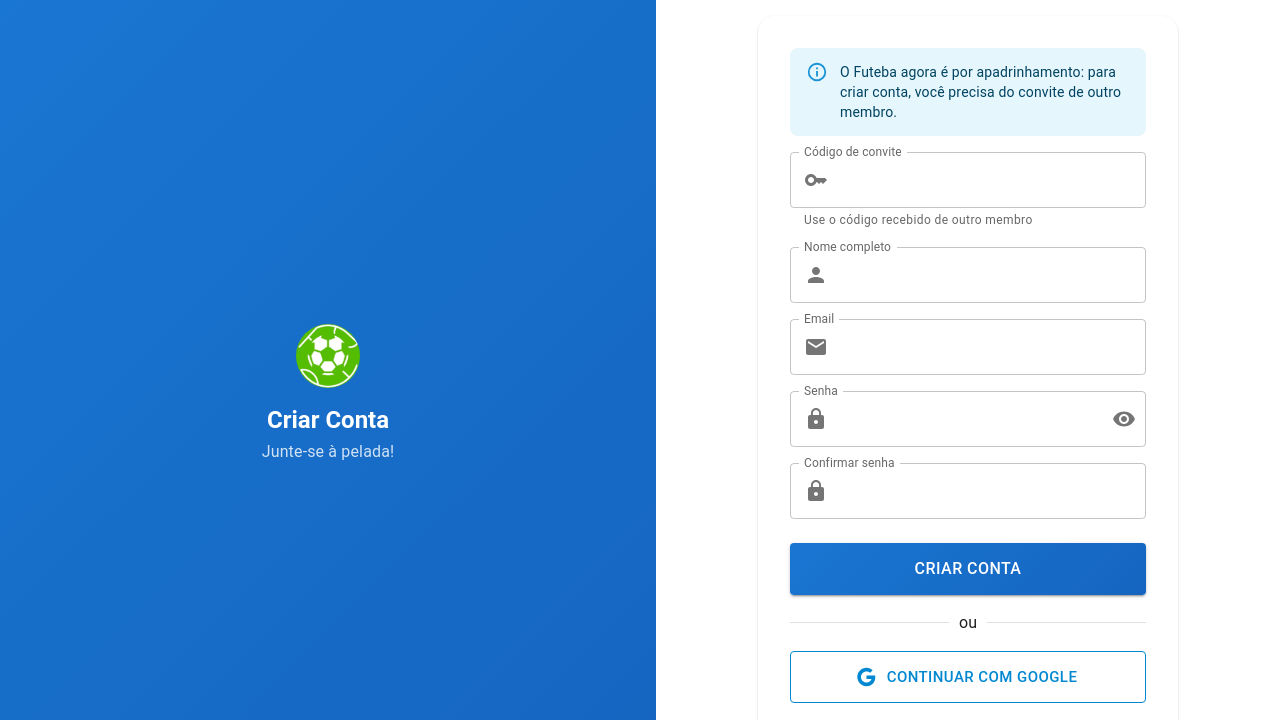
RegisterScreen › mostra erro para nome vazio
The image size is (1280, 720).
Click the button "Criar conta" at (968, 569), box [790,543,1146,595]
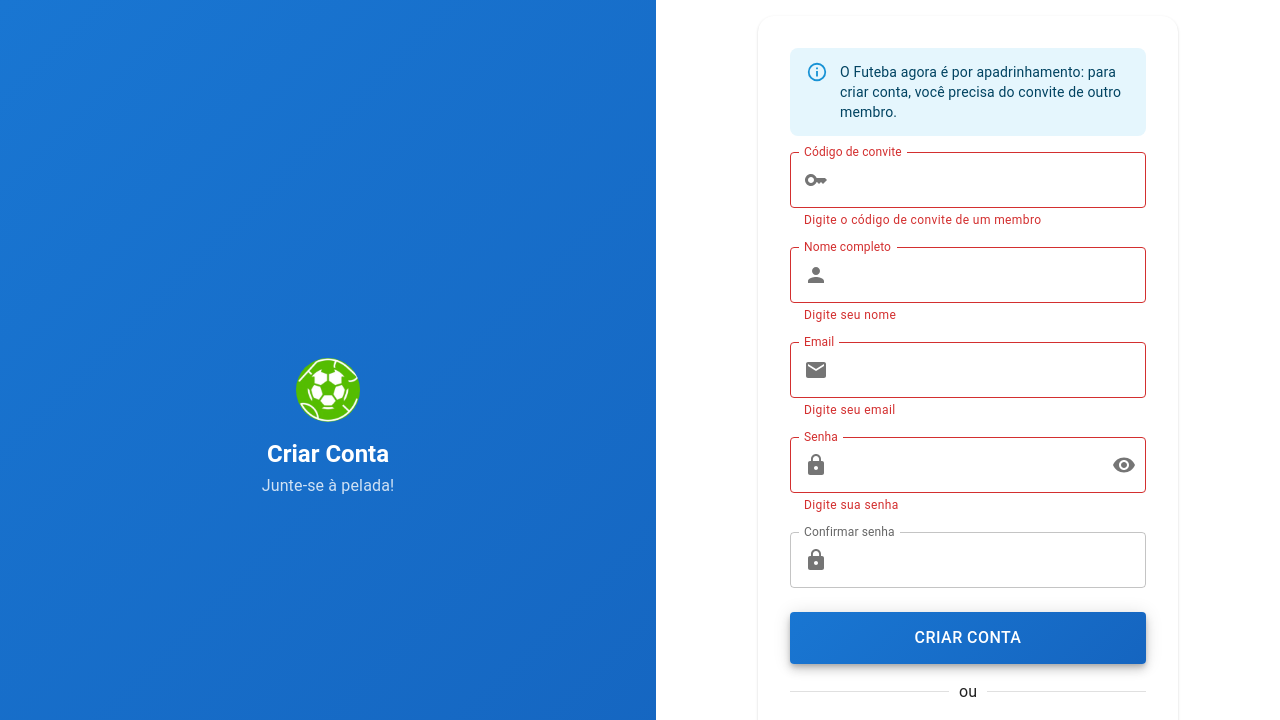
Check: the text "Digite seu nome" is shown, box [804,308,896,322]
